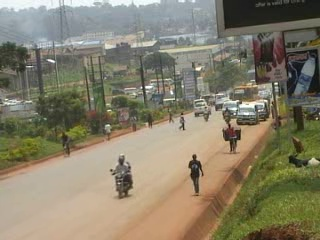Car: (190, 100, 210, 119), (214, 97, 225, 111)
Motorcycle: (107, 151, 133, 201), (200, 104, 211, 123), (221, 106, 232, 125)
